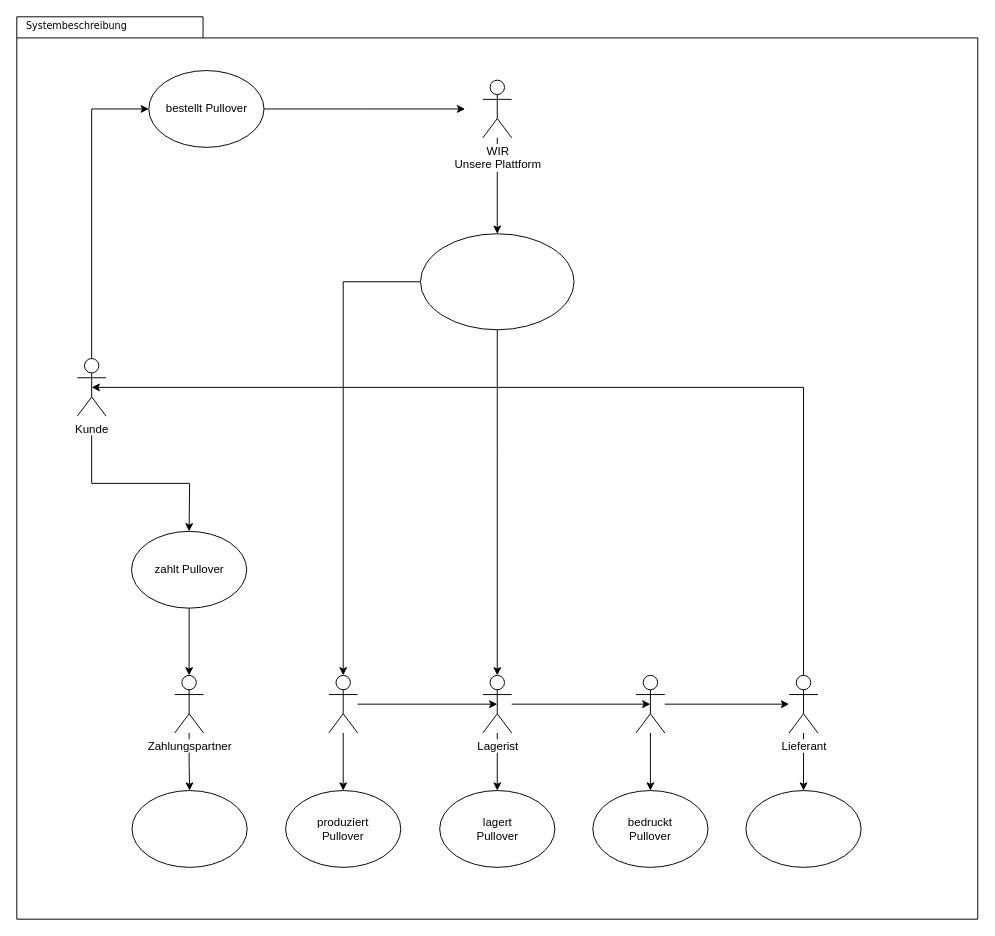
Some shapes in this 995 by 936 pixel diagram are drawn without their labels. The shapes that lost their labels are listed below. From the top down, each one's centre as x and y in pixels, then its label:
At point 497,281: "Bestellung aufbereiten und Daten an externe Partner weitergeben".
At point 343,703: "Nähfabrik".
At point 650,703: "Druckerei".
At point 189,828: "wickelt Bezahlung ab".
At point 803,828: "liefert Pullover".
